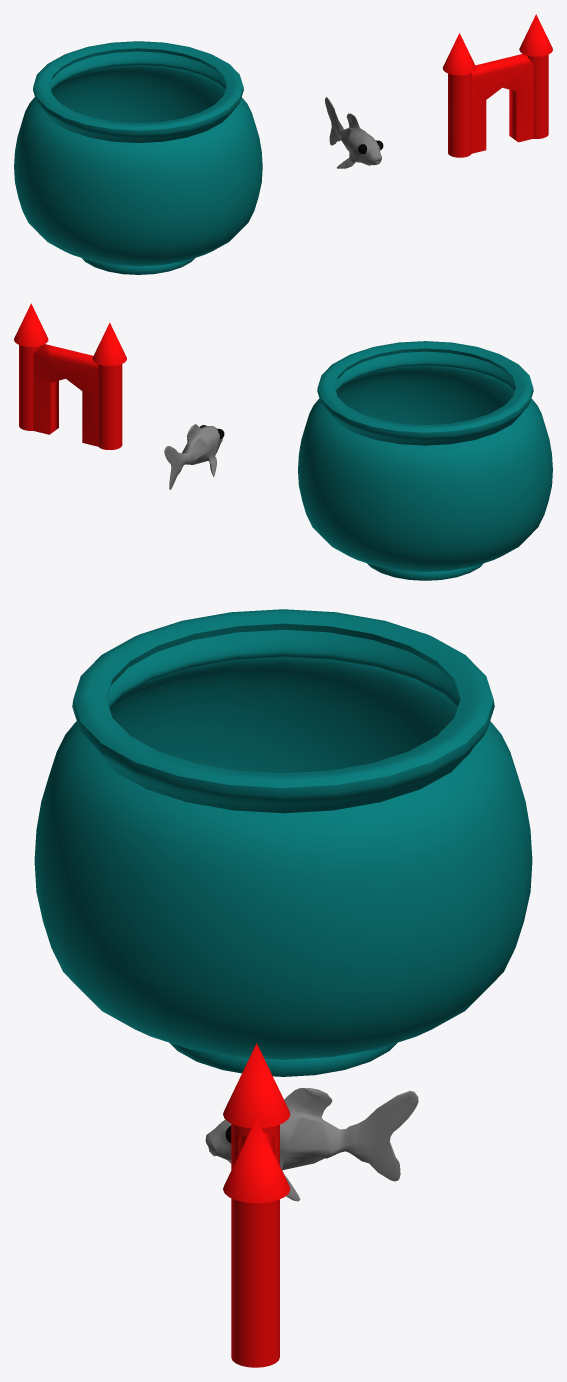
The model's file is SoftendFBC.obj.
3 views of the same model, one above another, from view 1: azimuth 30°, elevation 25°; view 2: azimuth 150°, elevation 25°; view 3: azimuth 270°, elevation 25° (orthographic). The views are drawn at different scales.
Parts seen in each view (by area): view 1: Bowl, Castle, polySurface1 goldfish; view 2: Bowl, Castle, polySurface1 goldfish; view 3: Bowl, Castle, polySurface1 goldfish.
Part boxes in pixels (box(x1,y1,x2,y2)): Bowl: box(14, 41, 262, 274); Castle: box(442, 14, 552, 157); polySurface1 goldfish: box(325, 97, 381, 168); Bowl: box(298, 341, 552, 580); Castle: box(14, 303, 126, 449); polySurface1 goldfish: box(164, 424, 222, 489); Bowl: box(34, 609, 532, 1076); Castle: box(223, 1043, 290, 1367); polySurface1 goldfish: box(205, 1088, 418, 1201).
Bounding box in the file's own units: 44.33 × 13.91 × 18.61.
